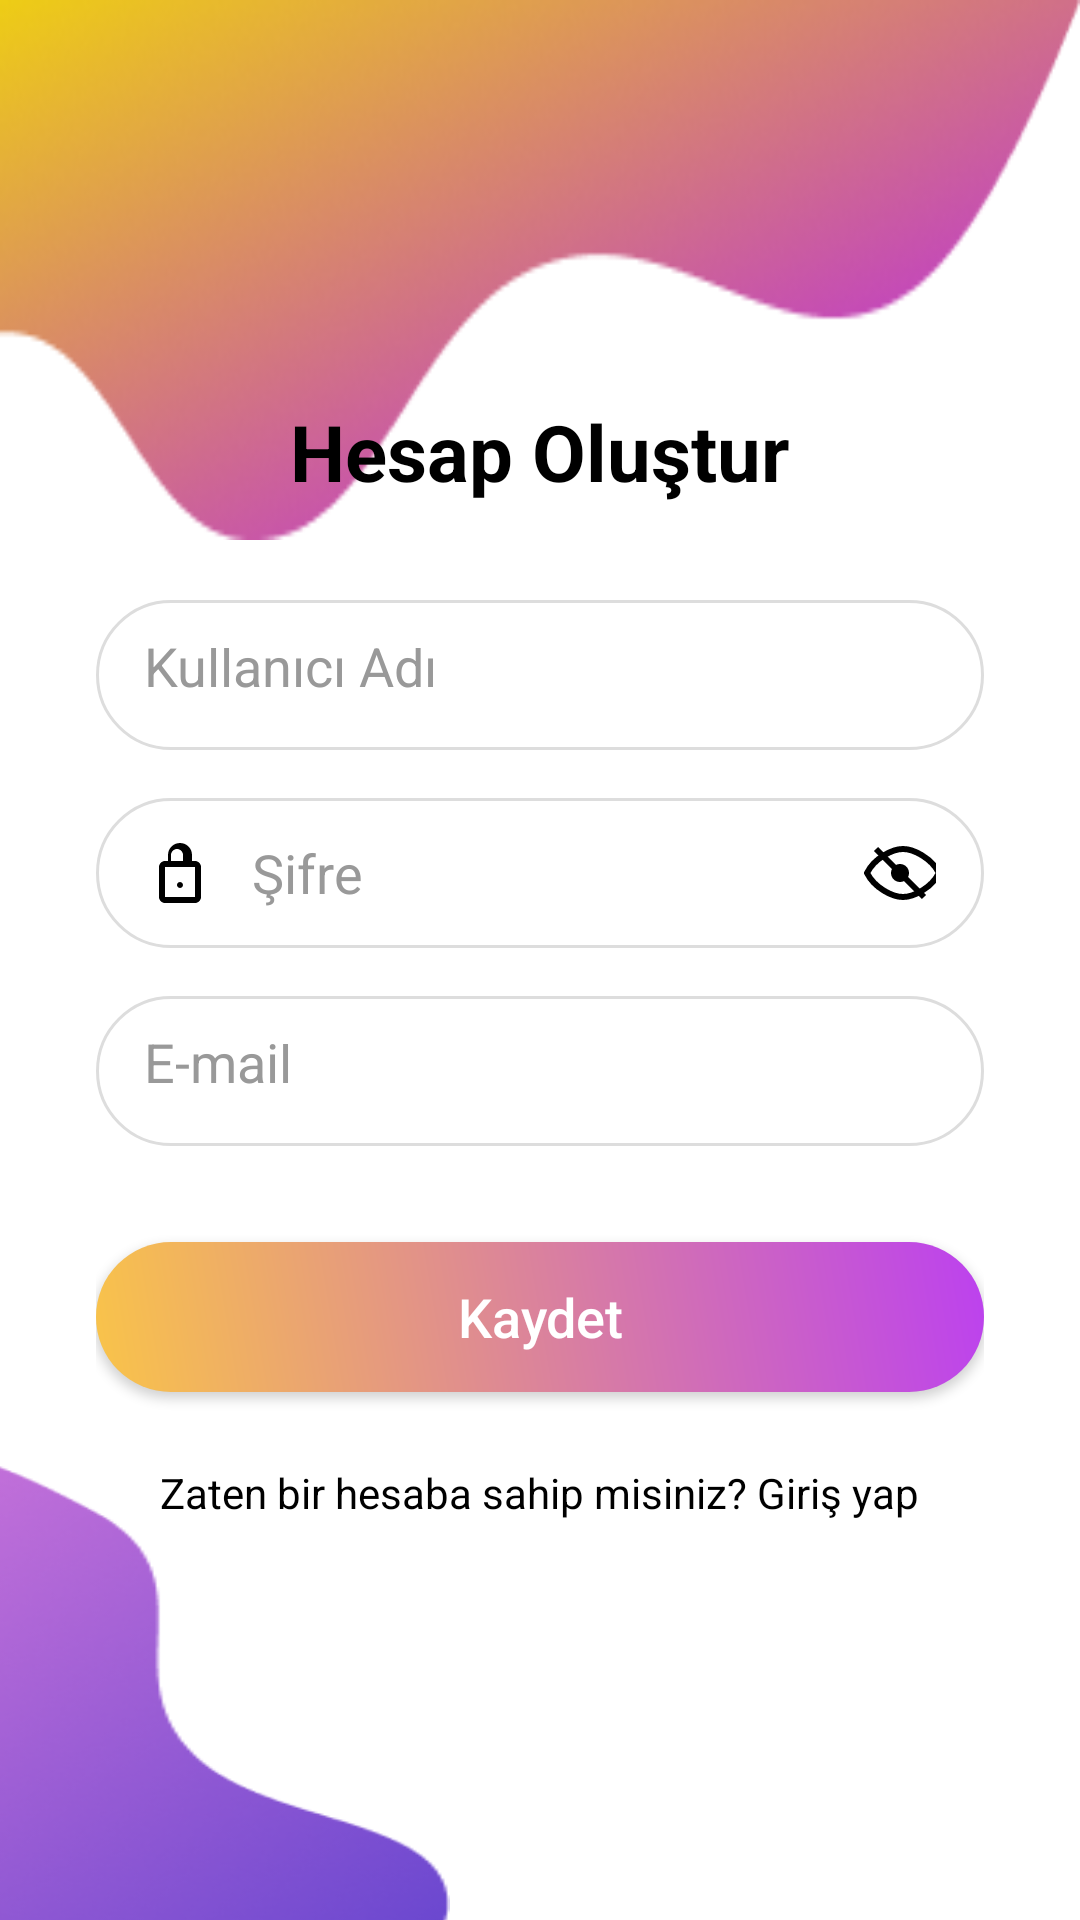

Screen size 1080px x 1920px. Icon name, then its box in pixels as Rect(x1, y1, x2, y2):
eye closed: Rect(864, 846, 936, 900)
